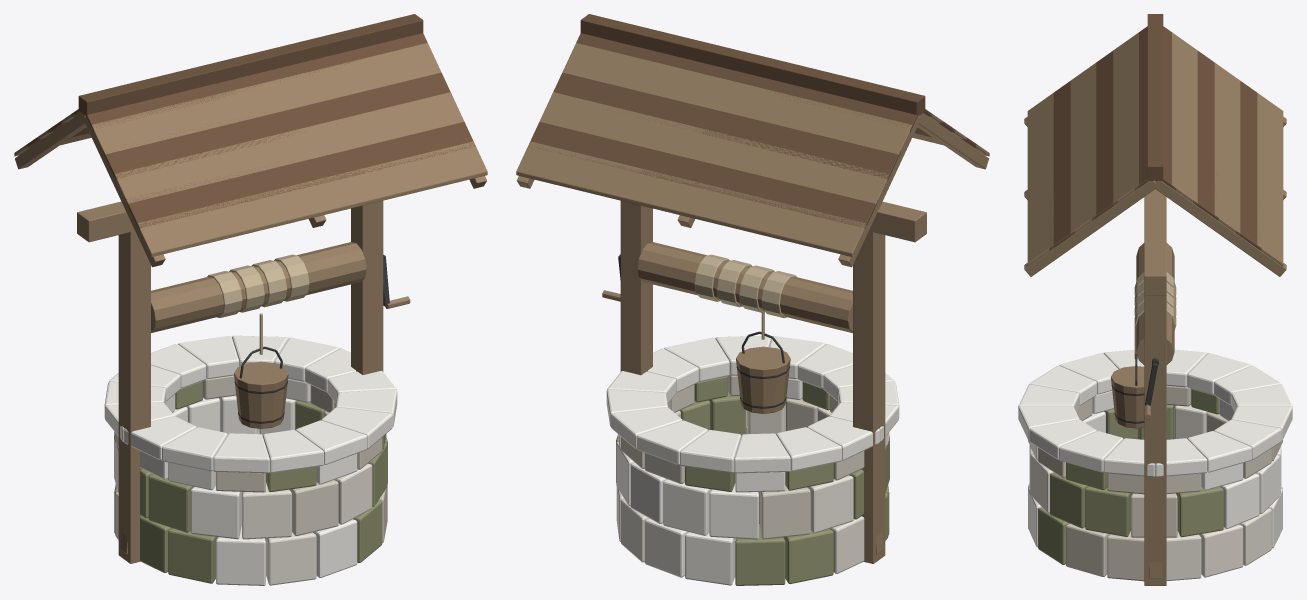
File: Well.fbx
The picture shows the model from 3 angles, left to right: view 1: azimuth 30°, elevation 25°; view 2: azimuth 150°, elevation 25°; view 3: azimuth 270°, elevation 25°; orthographic projection. The views are drawn at different scales.
Visible parts, largest first — view 1: Well; view 2: Well; view 3: Well.
Boxes of the visible parts, <box> form: Well: <box>14,14,487,585</box>; Well: <box>516,14,989,585</box>; Well: <box>1018,14,1292,585</box>.
Bounding box in the file's own units: 2.26 × 3.03 × 1.72.
